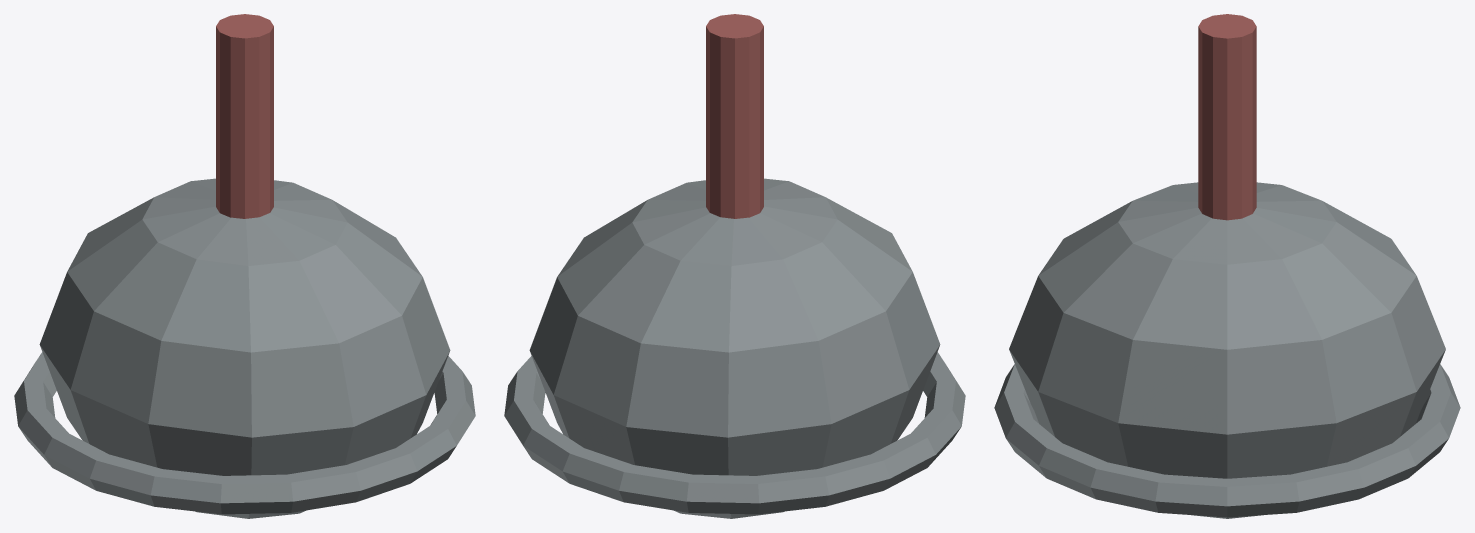
File: EQ-HELMET.glb
3 renders of one model, left to right at view 1: azimuth 30°, elevation 25°; view 2: azimuth 150°, elevation 25°; view 3: azimuth 270°, elevation 25°, orthographic.
Visible parts, largest first — view 1: dome, rim, crest; view 2: dome, rim, crest; view 3: dome, rim, crest.
Boxes of the visible parts, x1=… form: dome: x1=39, y1=178, x2=450, y2=518; rim: x1=14, y1=352, x2=475, y2=514; crest: x1=216, y1=14, x2=273, y2=218; dome: x1=529, y1=178, x2=940, y2=518; rim: x1=504, y1=352, x2=965, y2=514; crest: x1=706, y1=14, x2=763, y2=218; dome: x1=1009, y1=182, x2=1445, y2=518; rim: x1=994, y1=364, x2=1460, y2=517; crest: x1=1198, y1=14, x2=1256, y2=220.
Size of the model in its own units: 0.288 by 0.32 by 0.288.
